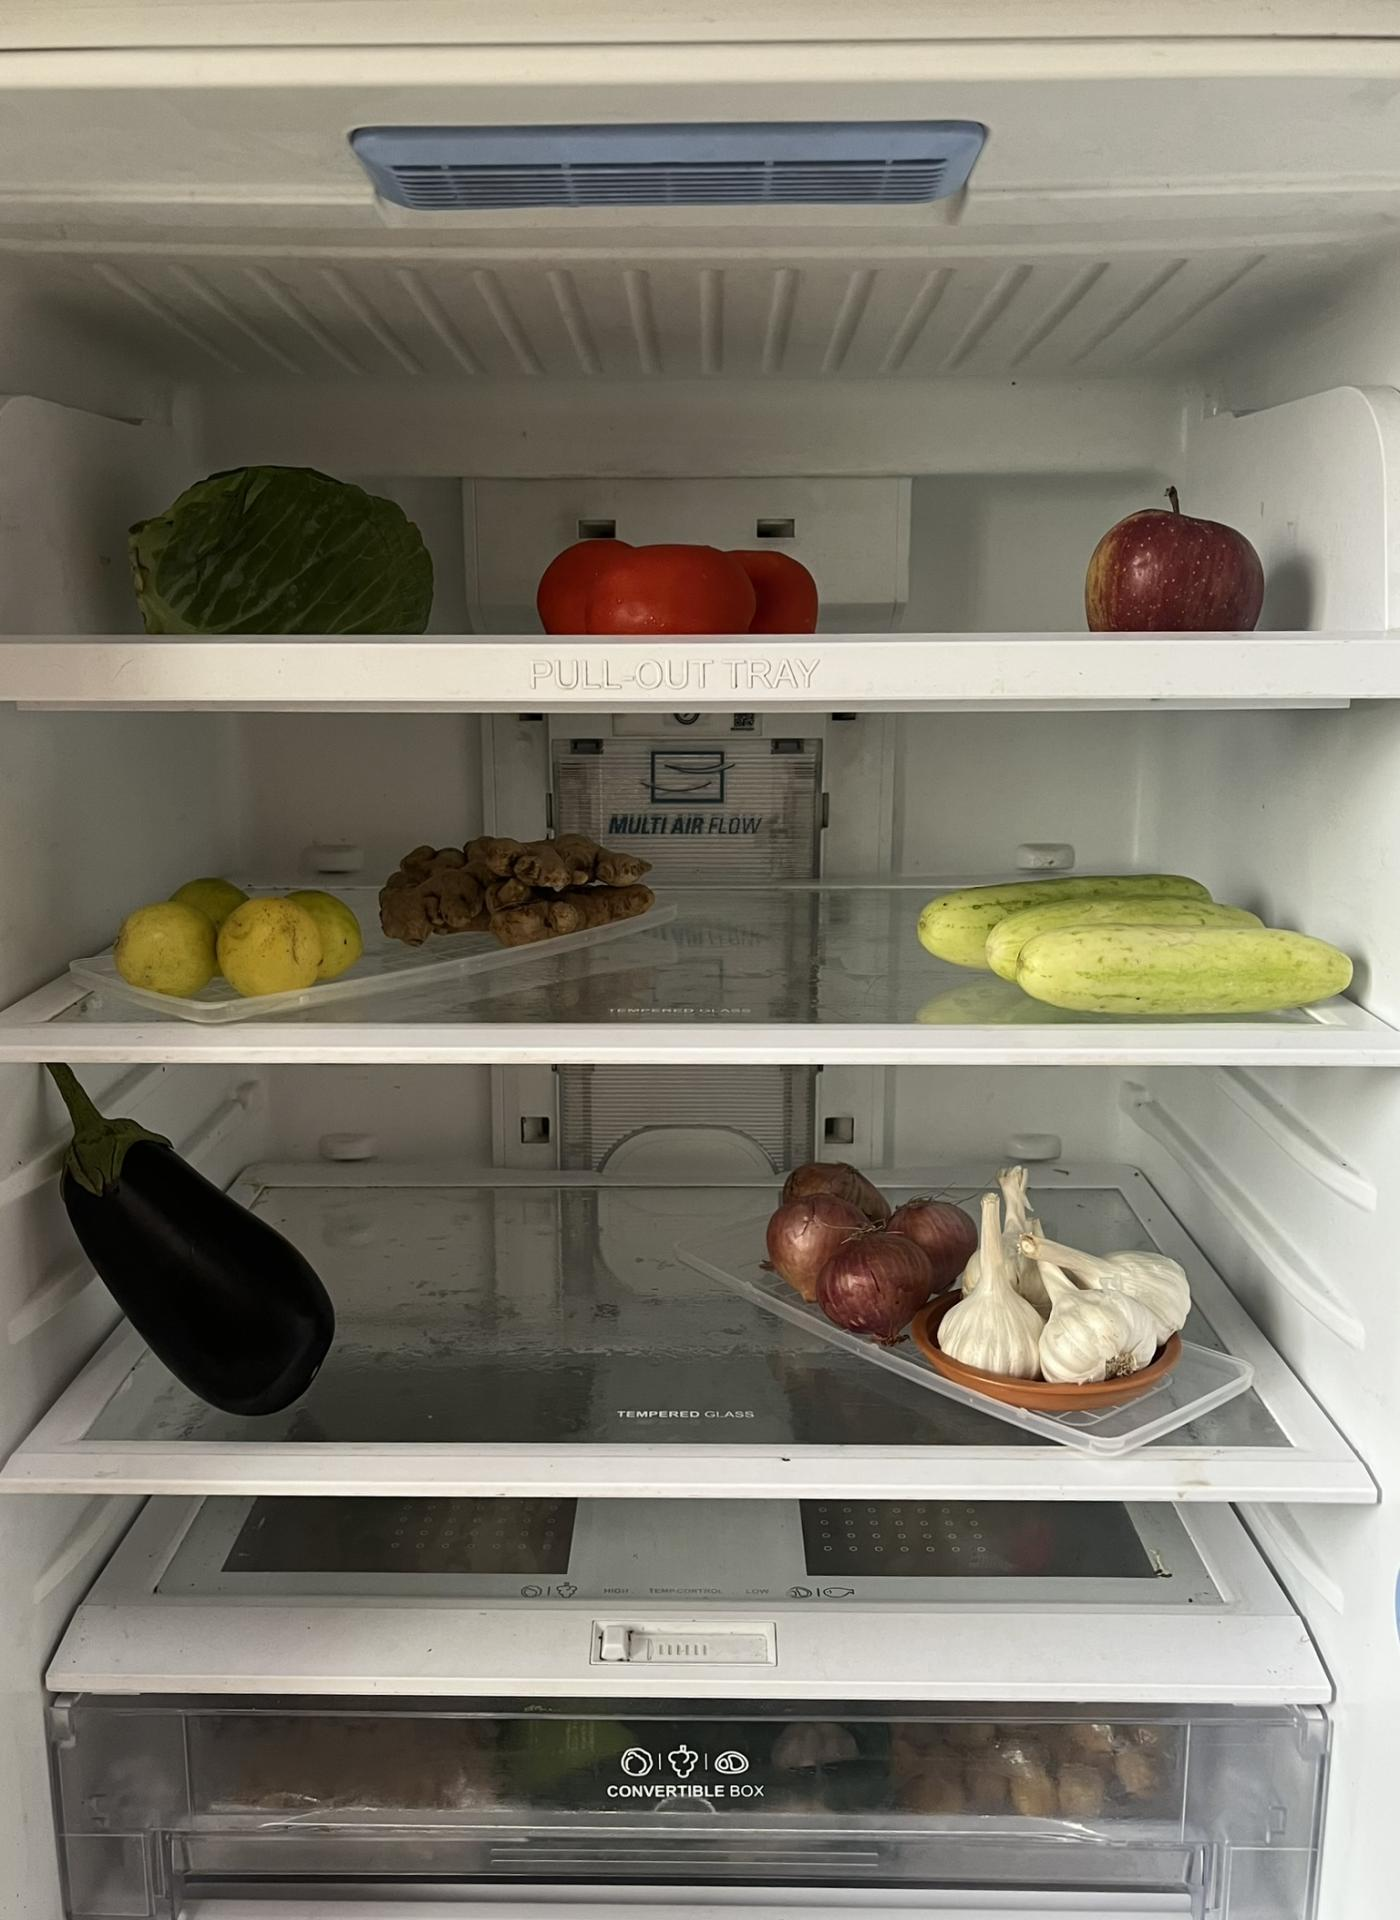apple: (1081, 502, 1264, 628)
brinjal: (43, 1061, 332, 1424)
cabbage: (110, 461, 444, 631)
cucumber: (904, 882, 1363, 1012)
garlic: (947, 1173, 1188, 1380)
ginger: (385, 817, 641, 947)
lemon: (101, 874, 368, 1009)
onion: (766, 1154, 974, 1349)
tomato: (535, 541, 813, 640)
